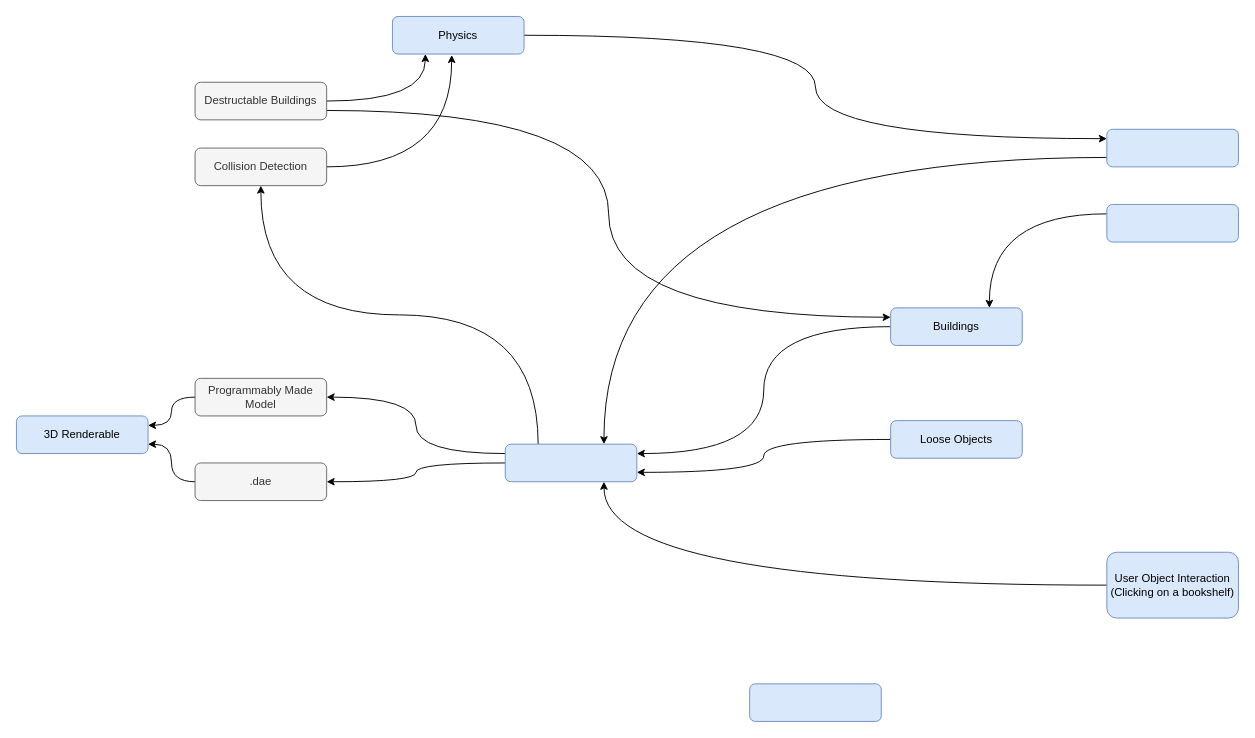
Some shapes in this 1255 by 738 pixel diagram are drawn without their labels. Here are the shapes that lost their labels. From the top down, the box of each, then its label:
(1106, 128, 1238, 167): User Movement
(1106, 204, 1238, 242): User Building Design
(504, 443, 637, 482): World Objects
(749, 683, 881, 721): Fundamental Objects
